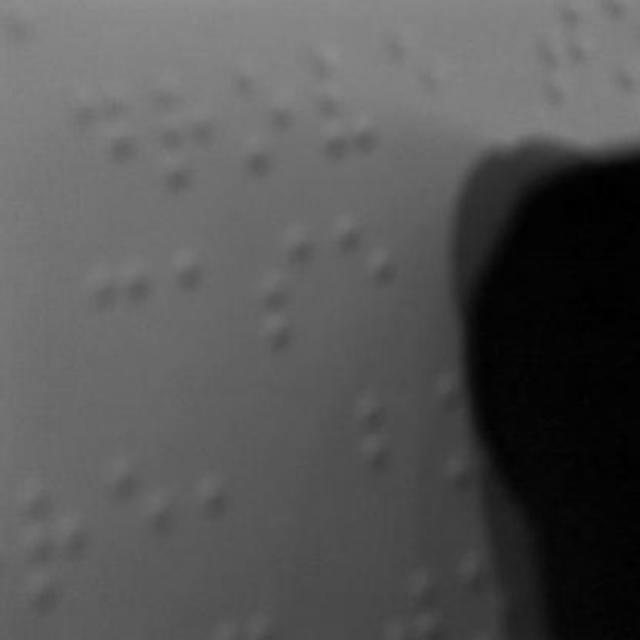braiile: (20, 465, 106, 605), (113, 432, 191, 578), (233, 49, 309, 187), (198, 430, 272, 570), (85, 244, 158, 380), (334, 202, 402, 342), (387, 21, 457, 156), (154, 72, 226, 198), (314, 30, 382, 160), (73, 76, 143, 200), (170, 238, 238, 364), (258, 220, 320, 348)
